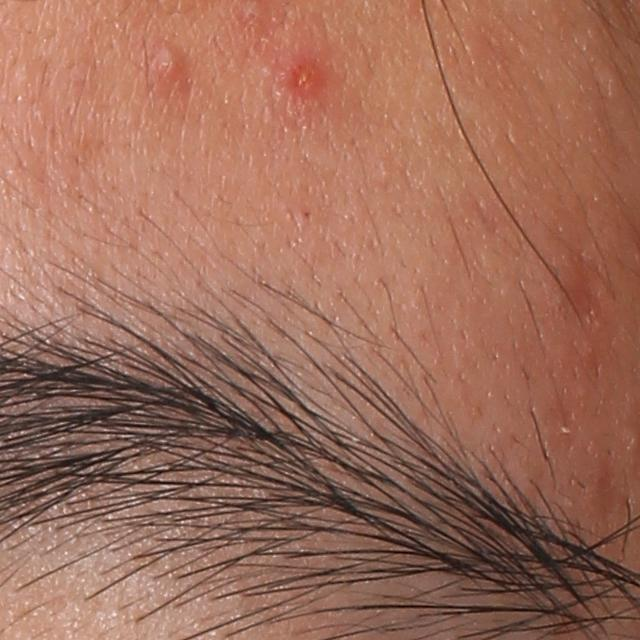comedo: (295, 203, 320, 225)
papule: (278, 56, 330, 108), (148, 42, 183, 87)
